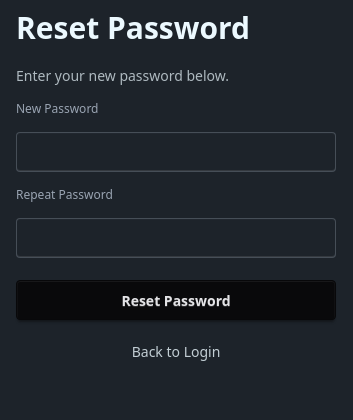
it: ResetPasswordPage › displays API error message on failure
Type "password" into the password field labelled "New Password" at coordinates (176, 152), box x1=16 y1=132 x2=336 y2=172
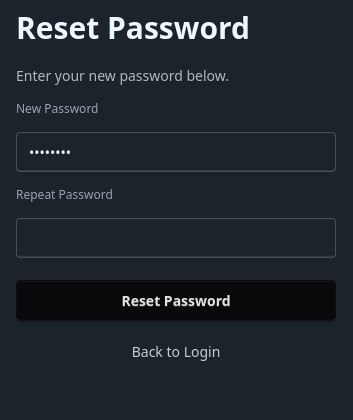
Type "password" into the password field labelled "Repeat Password" at coordinates (176, 238), box x1=16 y1=218 x2=336 y2=258
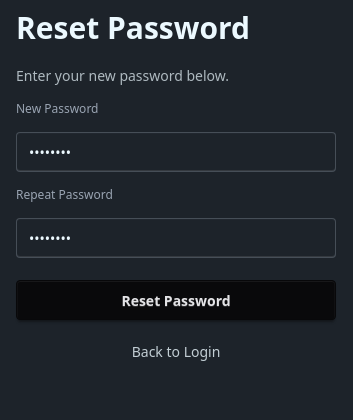
Click the button "Reset Password" at coordinates (176, 300), box x1=16 y1=280 x2=336 y2=320
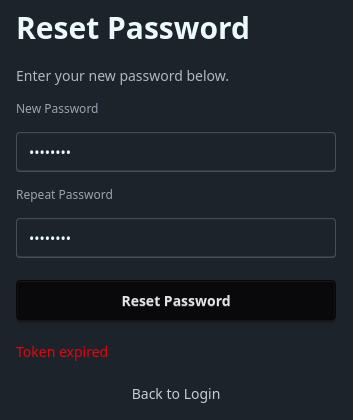
Check: the text "Token expired" is shown, box x1=16 y1=342 x2=108 y2=361
